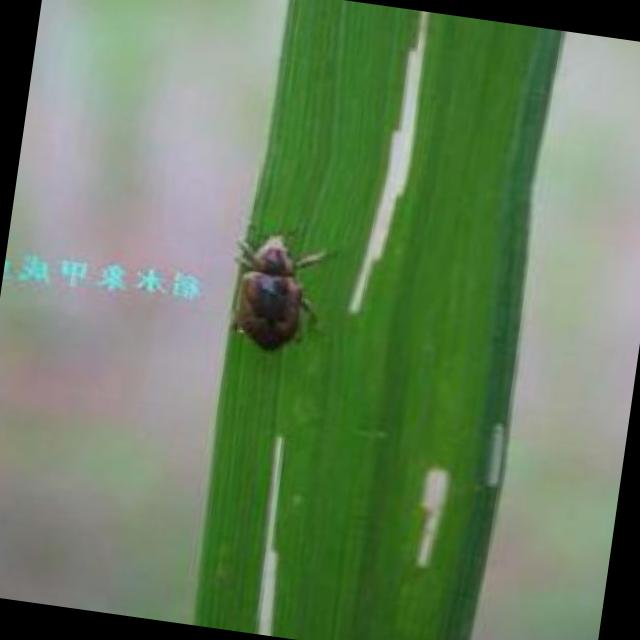rice-bug: (212, 222, 327, 362)
